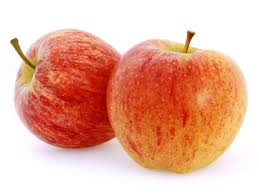apple: (113, 38, 247, 173), (13, 30, 120, 147)
